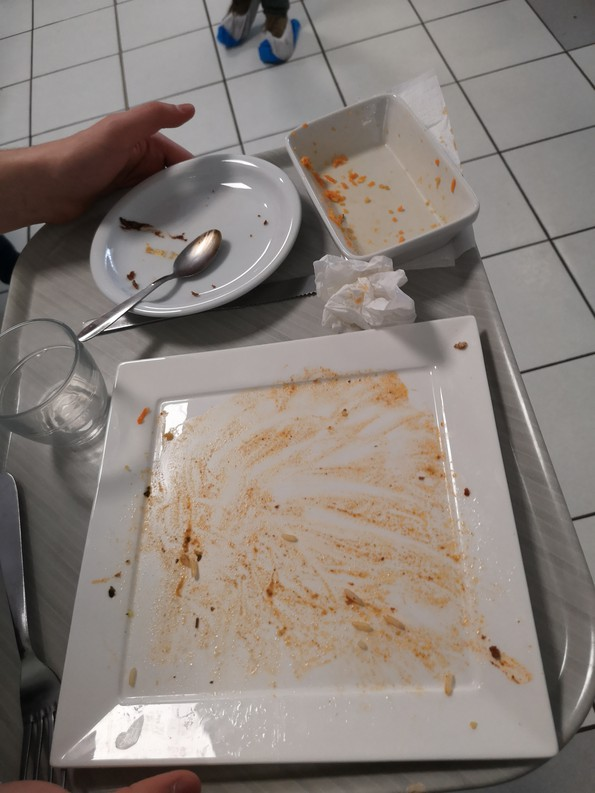cup: (1, 313, 104, 444)
cutlery: (81, 221, 223, 349)
trash: (313, 248, 415, 341)
